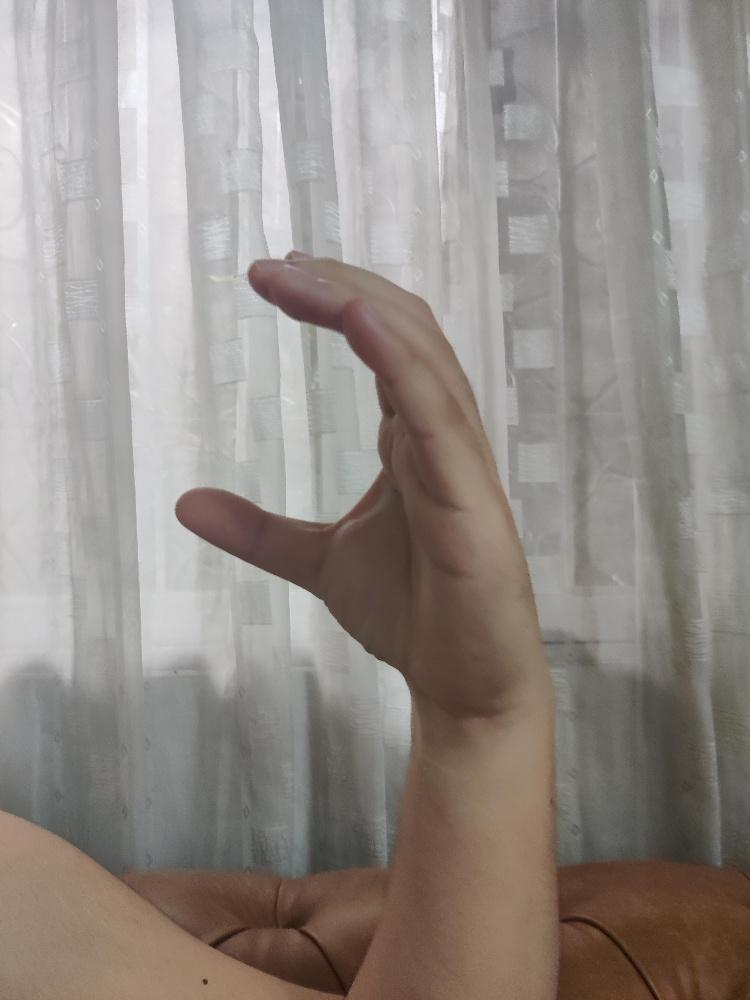c: (173, 246, 541, 711)
